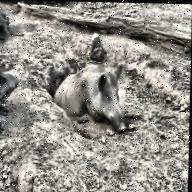boar: (48, 51, 144, 150)
